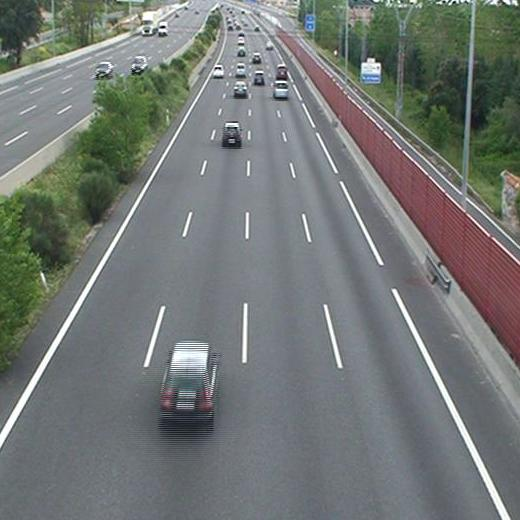car: (159, 344, 216, 420), (223, 122, 242, 146), (273, 82, 287, 98), (211, 65, 224, 78), (234, 82, 246, 95), (276, 64, 287, 78), (234, 63, 246, 75), (254, 71, 264, 85), (252, 53, 261, 61), (237, 48, 245, 57), (264, 41, 272, 50), (237, 36, 245, 44)
